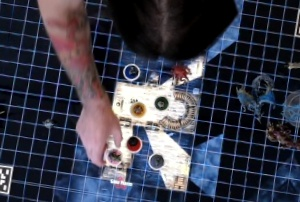blue: (120, 60, 141, 82)
green: (152, 92, 171, 111)
pink: (105, 146, 126, 168)
red: (122, 133, 144, 154)
violet: (145, 150, 166, 170)
yellow: (128, 98, 148, 117)
